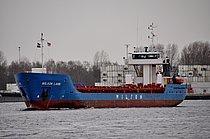Ship: (9, 31, 197, 111)
